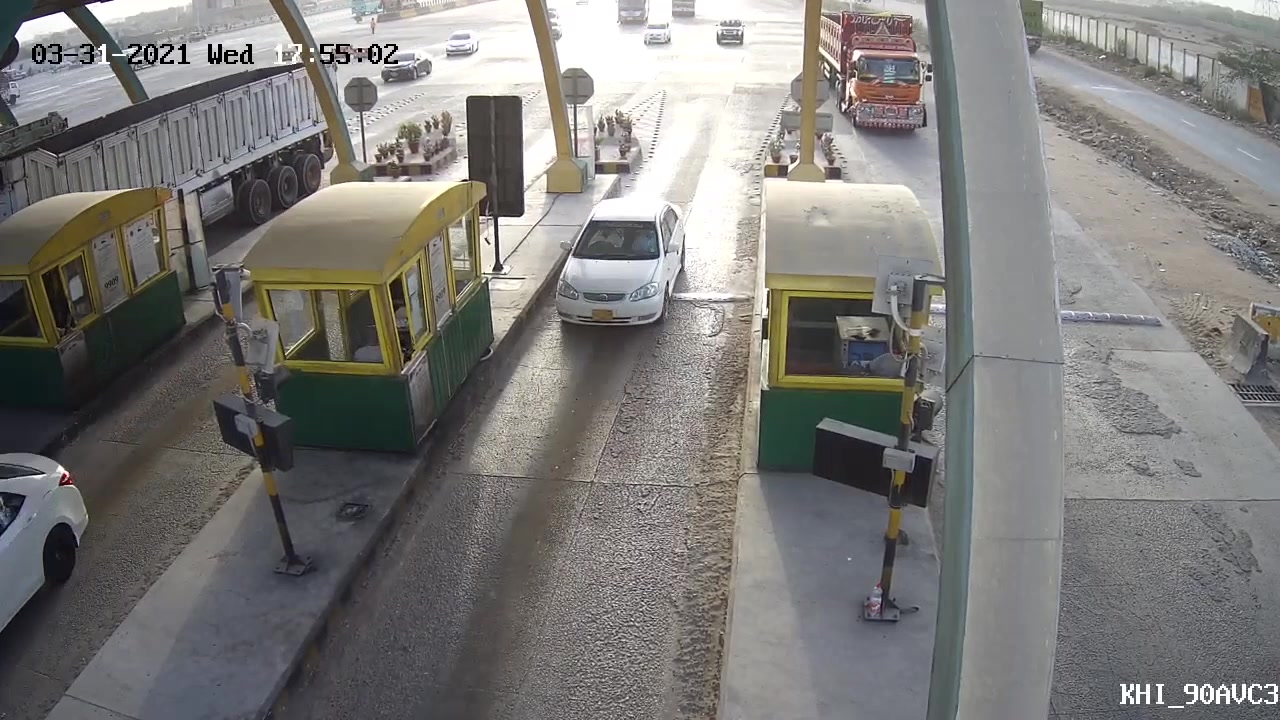F1: (550, 194, 695, 333)
